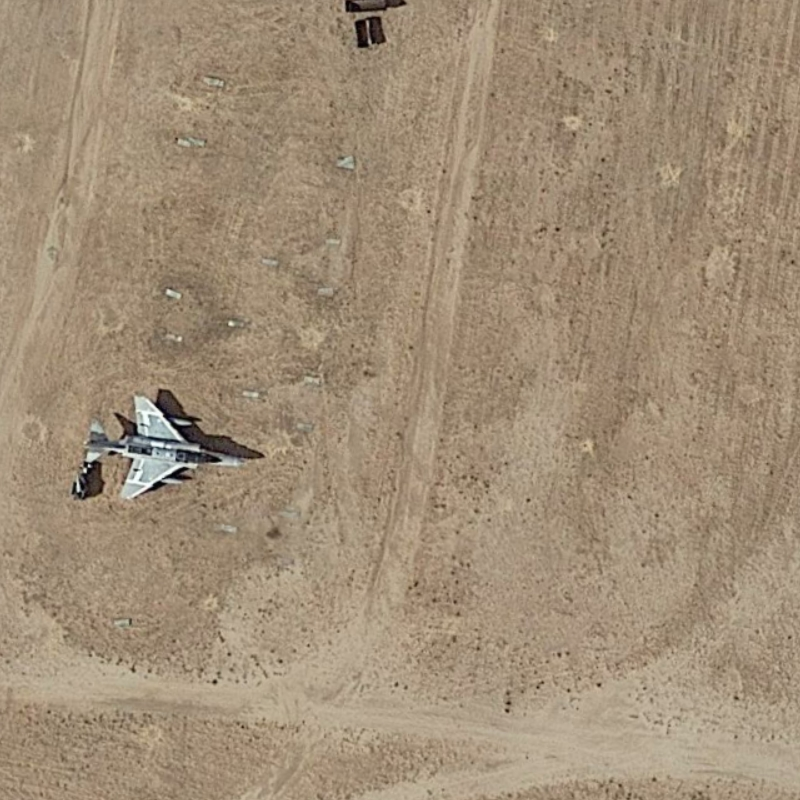A13: (83, 387, 256, 507)
